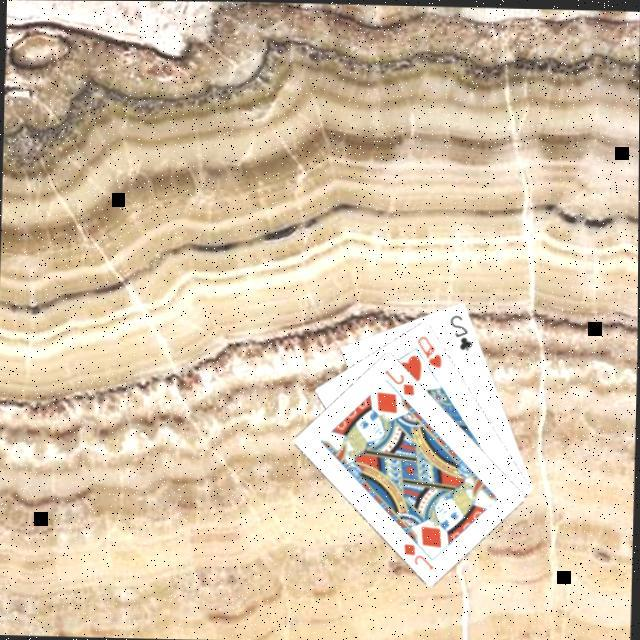2C: (444, 310, 474, 352)
JD: (398, 540, 437, 572), (379, 366, 416, 398)
QH: (412, 332, 444, 371)
